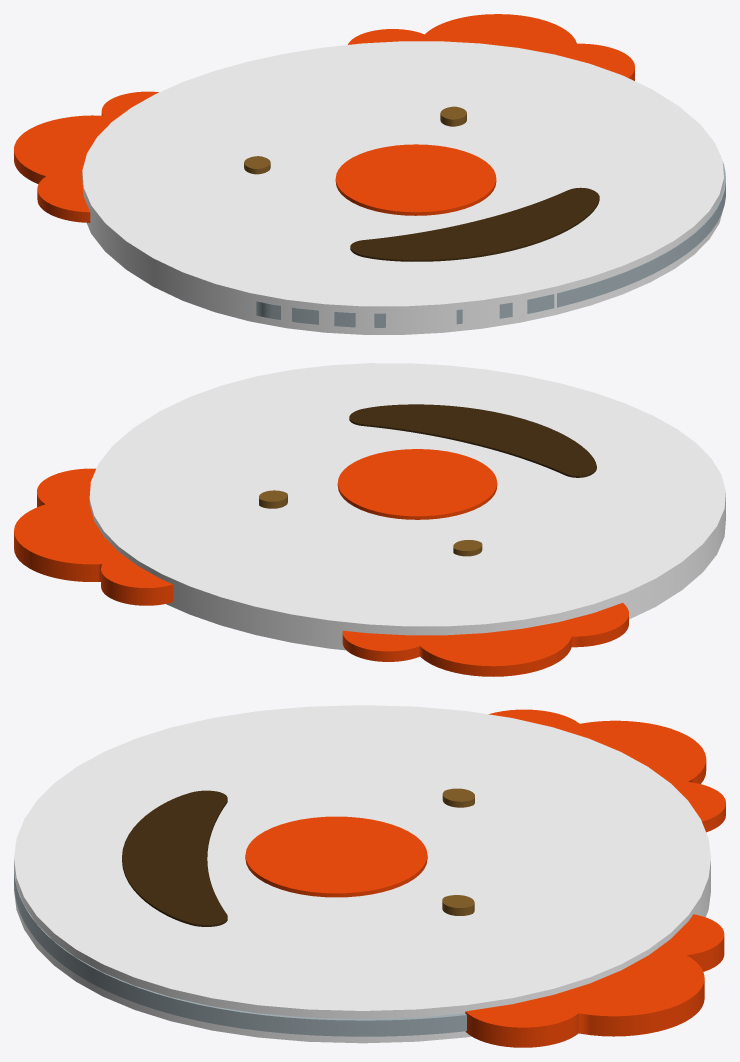
File: emoji_u1f921.glb
3 views of the same model, one above another, from view 1: azimuth 30°, elevation 25°; view 2: azimuth 150°, elevation 25°; view 3: azimuth 270°, elevation 25° (orthographic). The views are drawn at different scales.
Parts seen in each view (by area): view 1: emoji_u1f921; view 2: emoji_u1f921; view 3: emoji_u1f921.
Part boxes in pixels (bbox=[...]): emoji_u1f921: bbox=[14, 14, 725, 334]; emoji_u1f921: bbox=[14, 363, 725, 676]; emoji_u1f921: bbox=[14, 705, 725, 1047].
Bounding box in the file's own units: 0.0342 × 0.0024 × 0.032.
